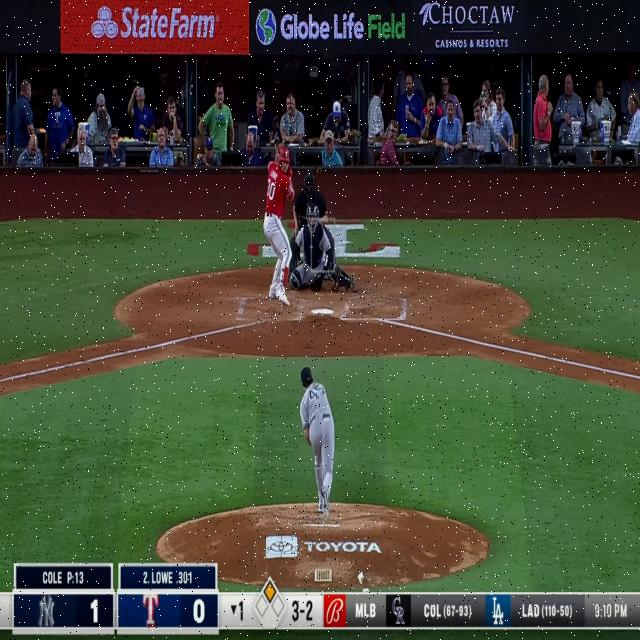baseball: (344, 303, 350, 315)
